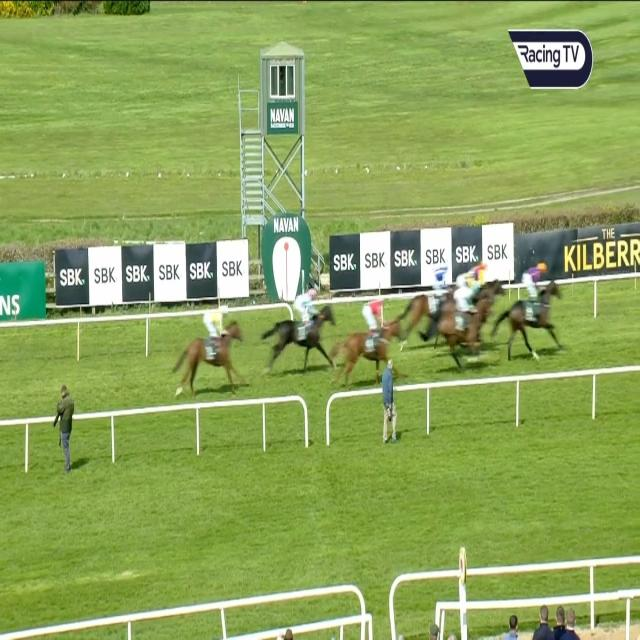horses-racing: (501, 260, 562, 361), (177, 305, 244, 386), (267, 288, 334, 362), (341, 294, 398, 374), (434, 287, 487, 360), (409, 260, 447, 317), (456, 259, 493, 288)
